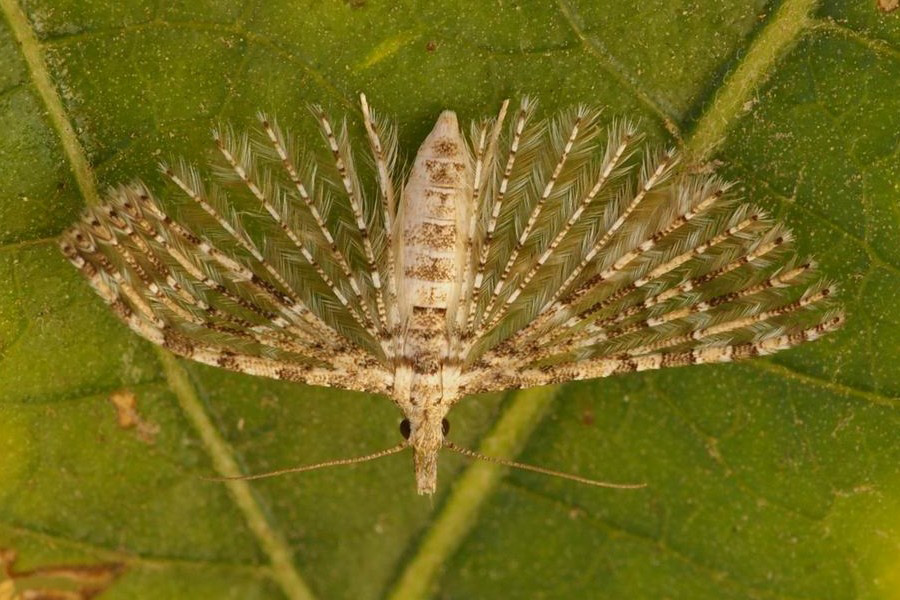Alucitidae: (51, 78, 846, 493)
moth: (53, 80, 848, 495)
